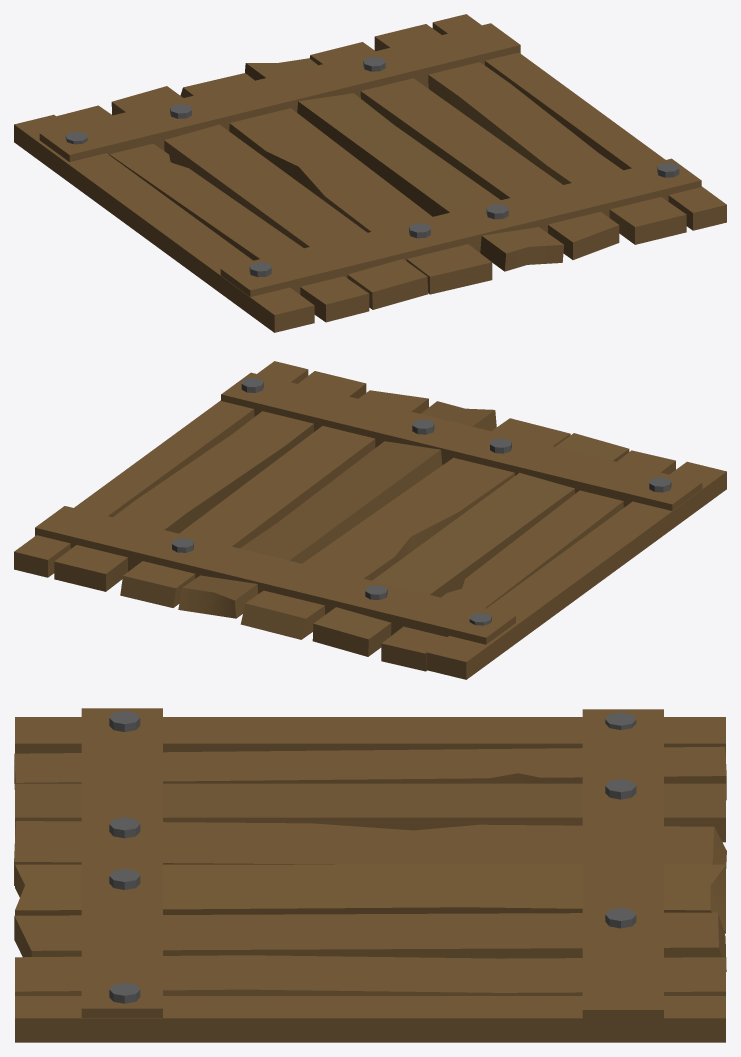
The model's file is floor_04.fbx.
3 views of the same model, one above another, from view 1: azimuth 30°, elevation 25°; view 2: azimuth 150°, elevation 25°; view 3: azimuth 270°, elevation 25° (orthographic). The views are drawn at different scales.
Visible parts, largest first — view 1: pCylinder56; view 2: pCylinder56; view 3: pCylinder56.
Boxes of the visible parts, x1=… form: pCylinder56: x1=14, y1=14, x2=726, y2=332; pCylinder56: x1=14, y1=361, x2=726, y2=679; pCylinder56: x1=14, y1=708, x2=726, y2=1042.
Bounding box in the file's own units: 201 × 200 × 13.59.
